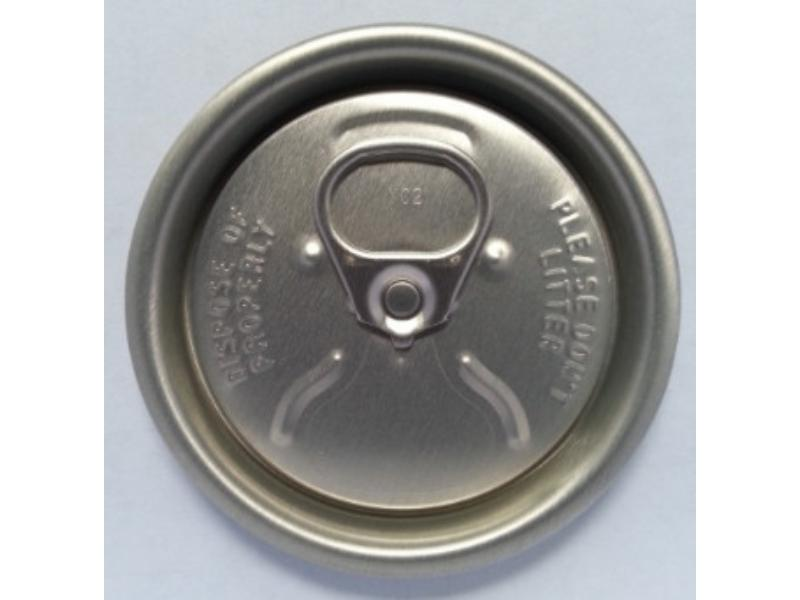can: (117, 15, 689, 574)
